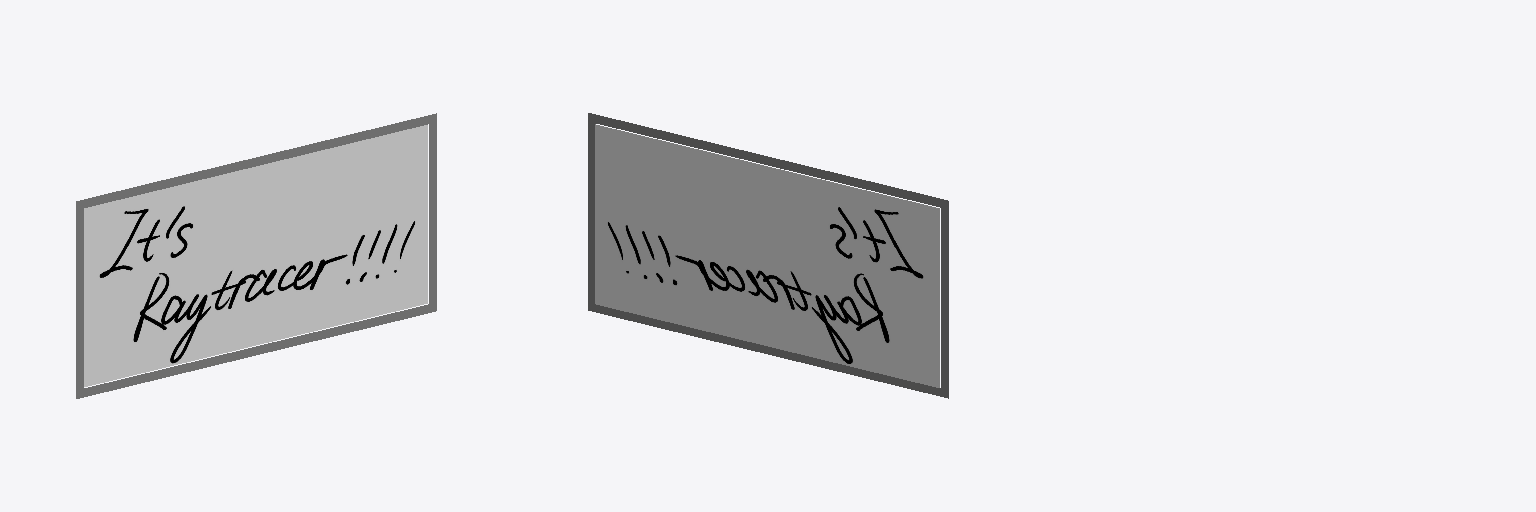
3 renders of one model, left to right at view 1: azimuth 30°, elevation 25°; view 2: azimuth 150°, elevation 25°; view 3: azimuth 270°, elevation 25°, orthographic.
Visible parts, largest first — view 1: Whiteboard_Main, Frame_Top, Frame_Bottom, Frame_Left, Frame_Right; view 2: Whiteboard_Main, Frame_Top, Frame_Bottom, Frame_Left, Frame_Right; view 3: none.
Part boxes in pixels (x1,y1,x2,y2): Whiteboard_Main: (84, 125, 427, 386); Frame_Top: (76, 113, 436, 209); Frame_Bottom: (76, 302, 436, 398); Frame_Left: (76, 209, 83, 389); Frame_Right: (429, 122, 436, 303); Whiteboard_Main: (595, 124, 939, 387); Frame_Top: (588, 113, 948, 209); Frame_Bottom: (588, 302, 948, 398); Frame_Left: (941, 208, 948, 389); Frame_Right: (588, 122, 595, 302).
Size of the model in its own units: 2.1 by 1.1 by 0.01.
Materials: 2 (1 with a texture image).